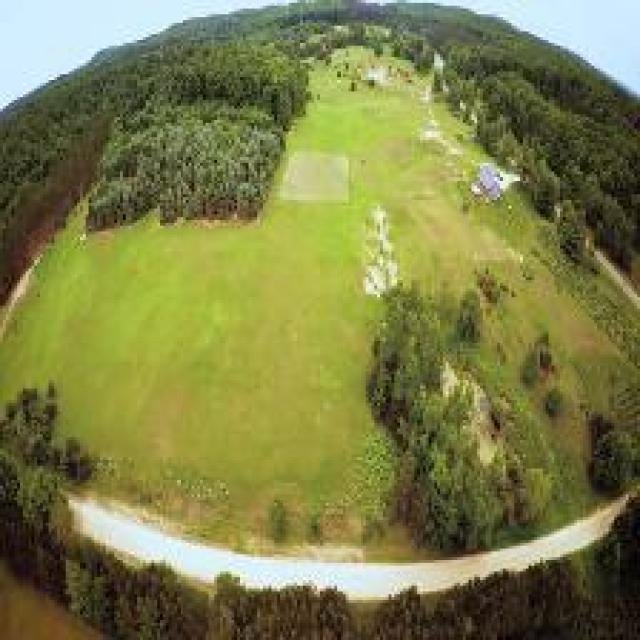other: (44, 471, 601, 594)
